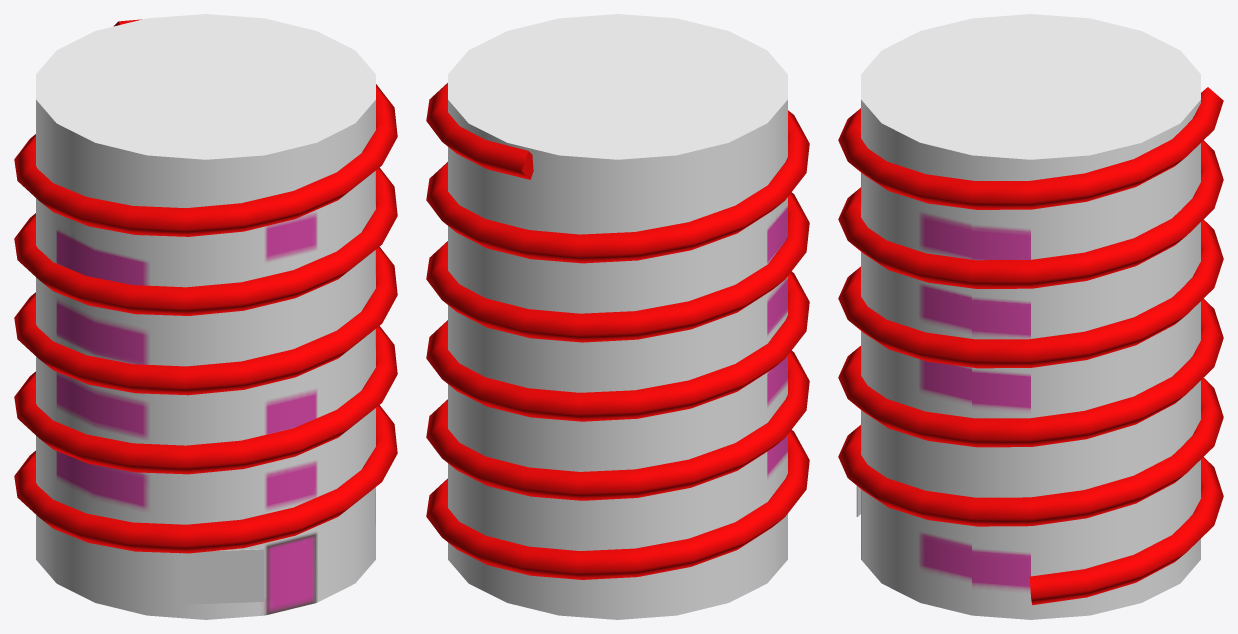
The model's file is Coil Building LP.FBX.
The picture shows the model from 3 angles, left to right: view 1: azimuth 30°, elevation 25°; view 2: azimuth 150°, elevation 25°; view 3: azimuth 270°, elevation 25°; orthographic projection.
Parts seen in each view (by area): view 1: Coil Building001, Spring002, Simple Spring Fever Sign; view 2: Coil Building001, Spring002; view 3: Coil Building001, Spring002.
Boxes of the visible parts, bbox=[...] form: Coil Building001: bbox=[36, 14, 375, 619]; Spring002: bbox=[14, 19, 397, 553]; Simple Spring Fever Sign: bbox=[181, 549, 264, 604]; Coil Building001: bbox=[448, 14, 787, 619]; Spring002: bbox=[426, 83, 809, 579]; Coil Building001: bbox=[861, 14, 1200, 619]; Spring002: bbox=[838, 87, 1223, 605].
Size of the model in its own units: 101 by 133 by 101.
Materials: 2 (1 with a texture image).
